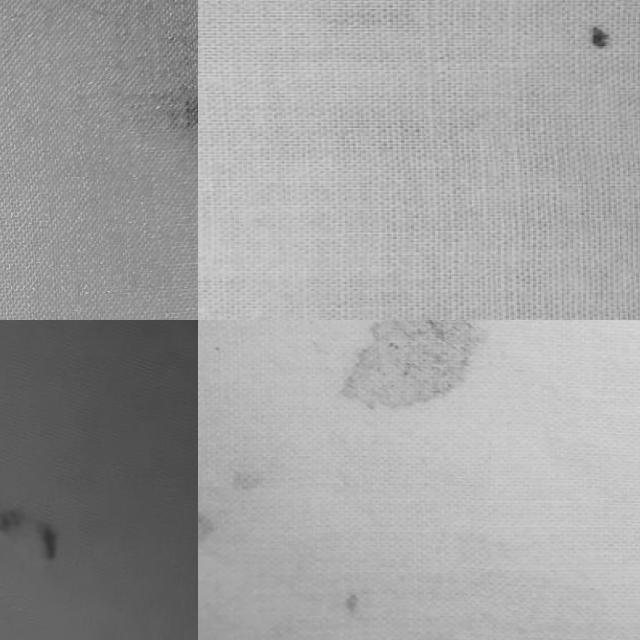Hole: (0, 448, 144, 624), (315, 320, 511, 445), (291, 527, 481, 640), (137, 0, 198, 199), (563, 0, 637, 78), (214, 457, 276, 504), (198, 493, 229, 561)
